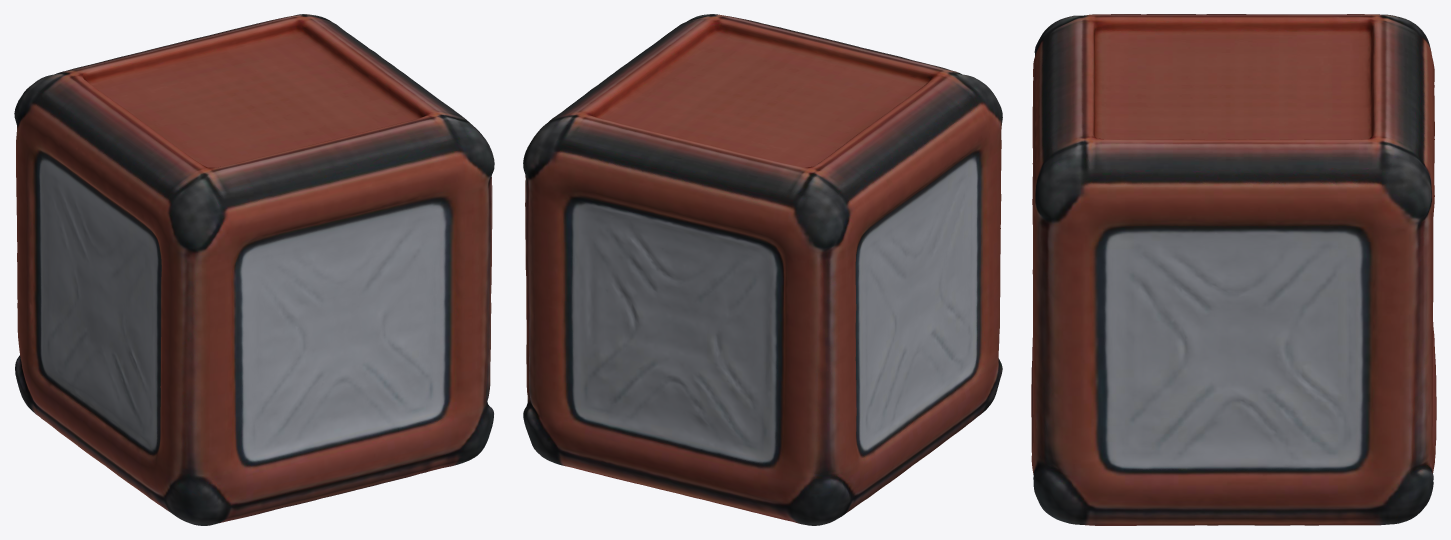
The model's file is e16c217f0118_square_hatch__3d_as.fbx.
3 renders of one model, left to right at view 1: azimuth 30°, elevation 25°; view 2: azimuth 150°, elevation 25°; view 3: azimuth 270°, elevation 25°, orthographic. The views are drawn at different scales.
Visible parts, largest first — view 1: high_poly; view 2: high_poly; view 3: high_poly.
Boxes of the visible parts, <box> form: high_poly: <box>14,14,494,525</box>; high_poly: <box>523,14,1002,525</box>; high_poly: <box>1031,14,1436,525</box>.
Bounding box in the file's own units: 97.61 × 100 × 97.61.
